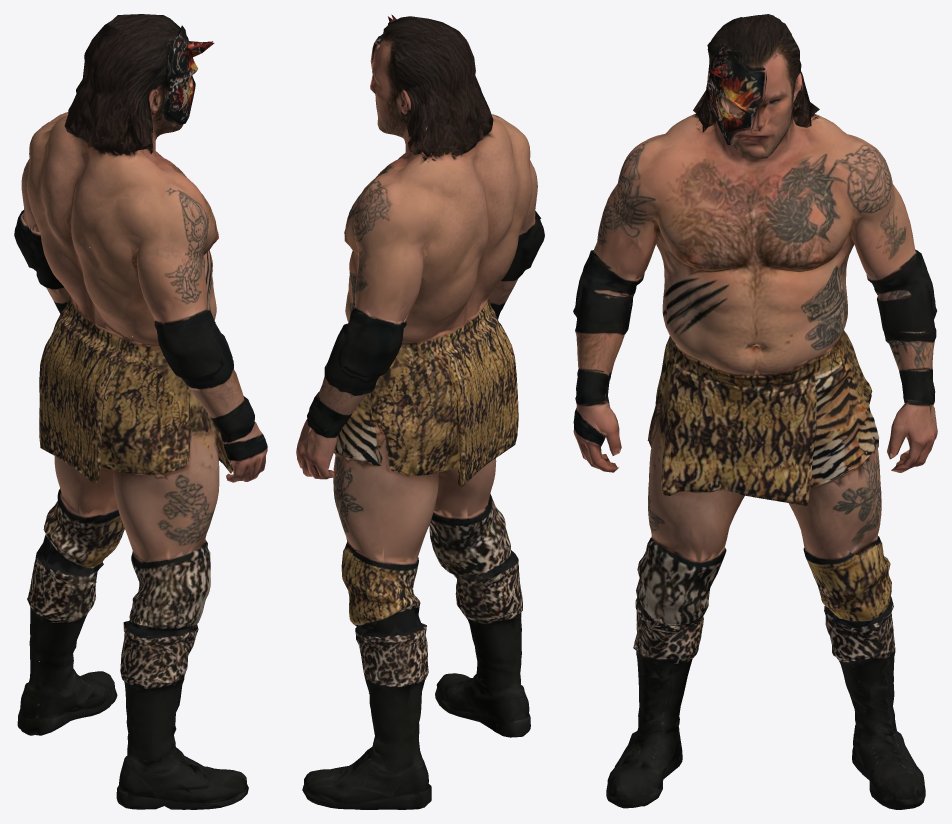
File: TARZANIAN_DEVIL_dec.glb
3 views of the same model, side by side, from view 1: azimuth 30°, elevation 25°; view 2: azimuth 150°, elevation 25°; view 3: azimuth 270°, elevation 25° (orthographic). The views are drawn at different scales.
Visible parts, largest first — view 1: tripo_node_ef2f5f80-4ff6-41c8-8f95-3b2d97aabec3; view 2: tripo_node_ef2f5f80-4ff6-41c8-8f95-3b2d97aabec3; view 3: tripo_node_ef2f5f80-4ff6-41c8-8f95-3b2d97aabec3.
Part boxes in pixels (x1=…): tripo_node_ef2f5f80-4ff6-41c8-8f95-3b2d97aabec3: x1=14, y1=14, x2=267, y2=809; tripo_node_ef2f5f80-4ff6-41c8-8f95-3b2d97aabec3: x1=296, y1=14, x2=544, y2=809; tripo_node_ef2f5f80-4ff6-41c8-8f95-3b2d97aabec3: x1=573, y1=14, x2=937, y2=809.
Bounding box in the file's own units: 0.1968 × 0.9791 × 0.4208.
1 material, 1 textured.
